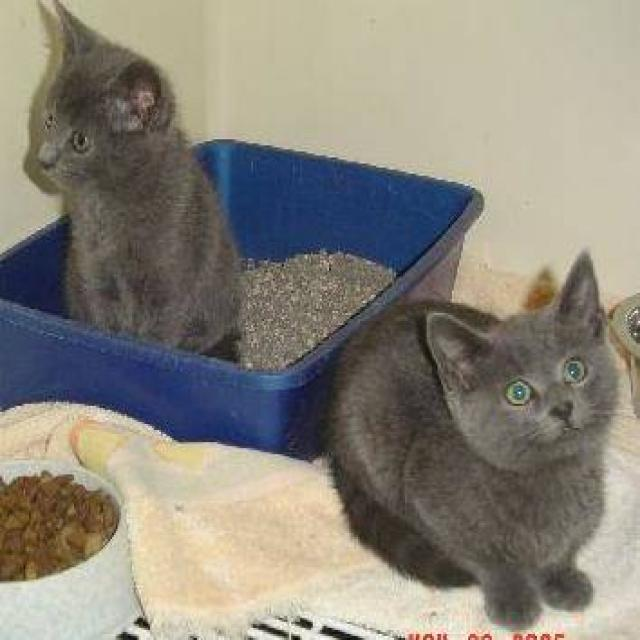cat: (320, 248, 624, 628), (22, 0, 246, 363)
